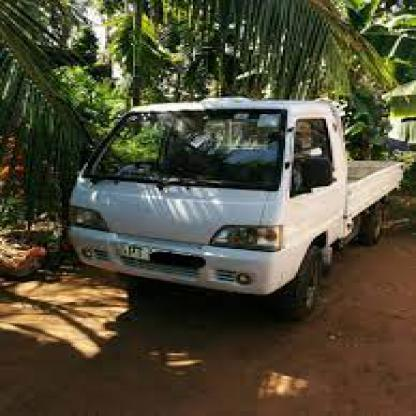lorry: (64, 95, 408, 324)
